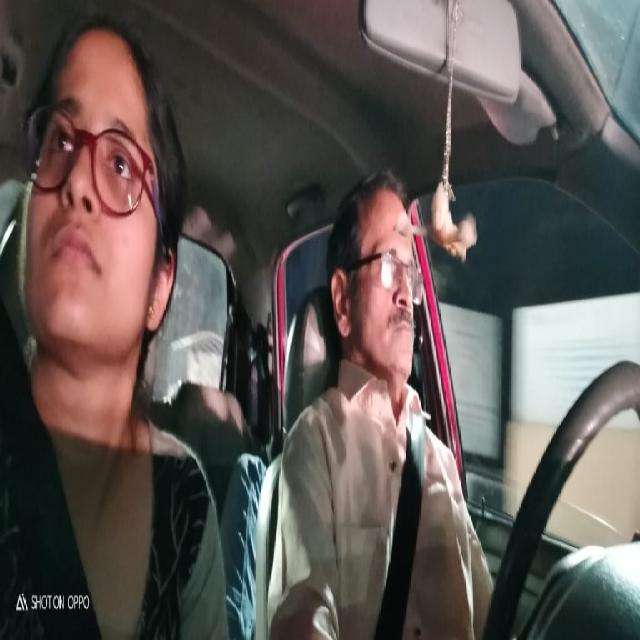person: (19, 9, 181, 394), (326, 161, 434, 405)
